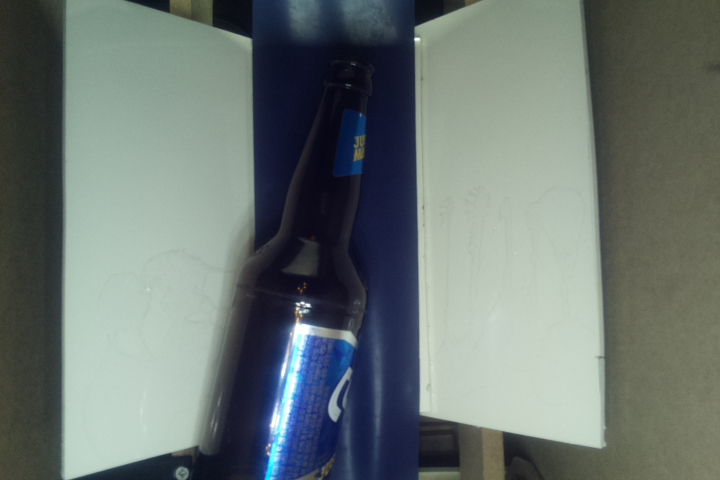makju: (193, 54, 371, 480)
